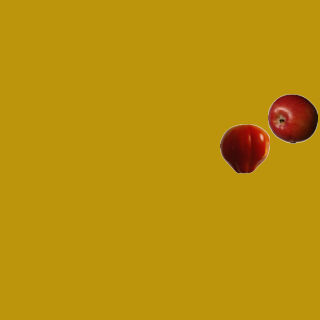Apple Braeburn: (267, 93, 317, 143)
Tomato 1: (219, 123, 269, 173)
